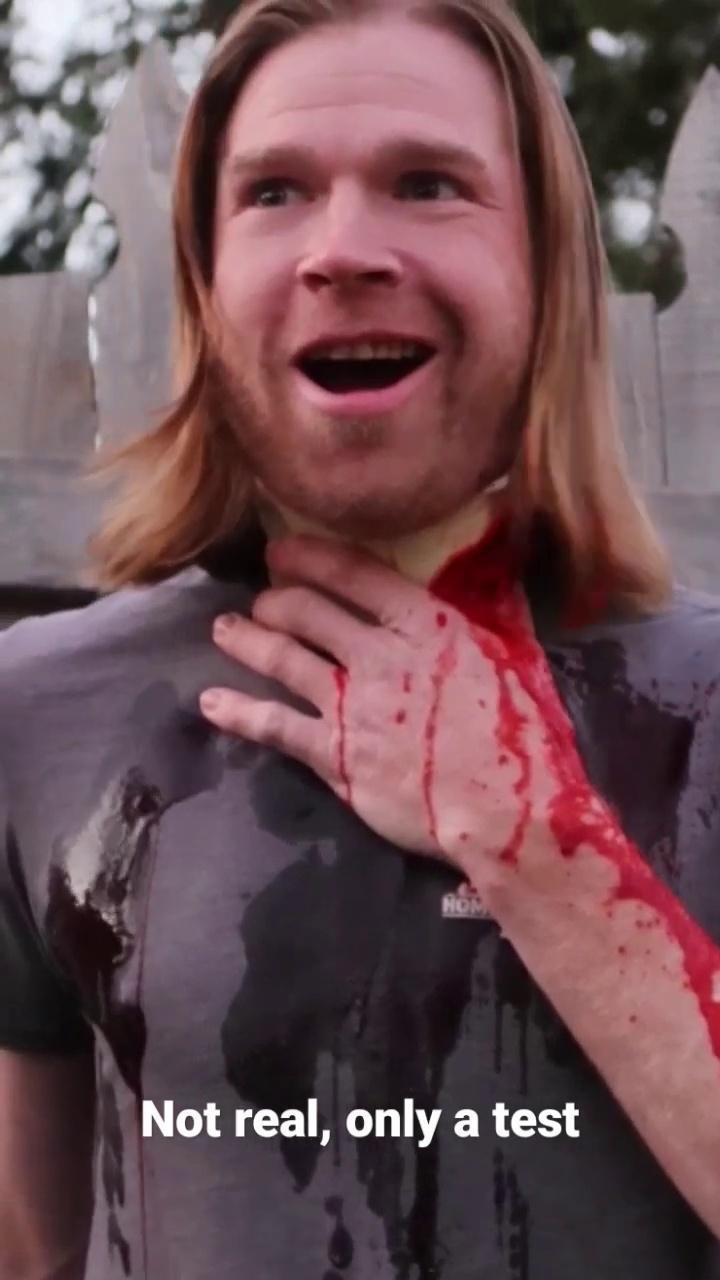Fire: (428, 516, 719, 1050), (547, 637, 694, 882), (436, 629, 548, 922), (409, 649, 453, 858), (302, 664, 358, 814), (433, 611, 448, 640)
